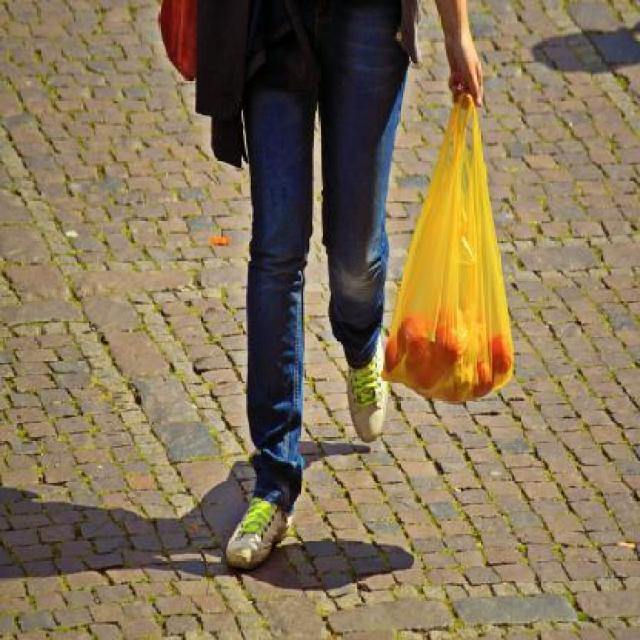plastic bag: (383, 89, 518, 413)
